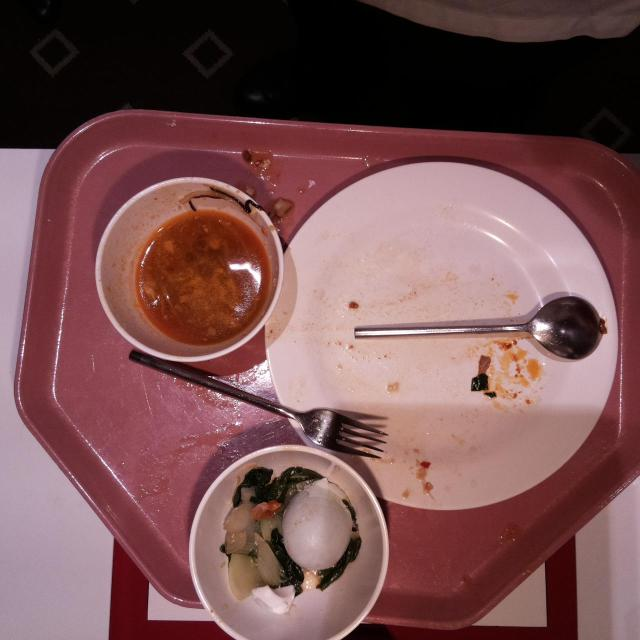Egg-shell: (281, 484, 355, 572)
Vegetable: (265, 526, 303, 600), (243, 465, 320, 497), (320, 539, 360, 592)
